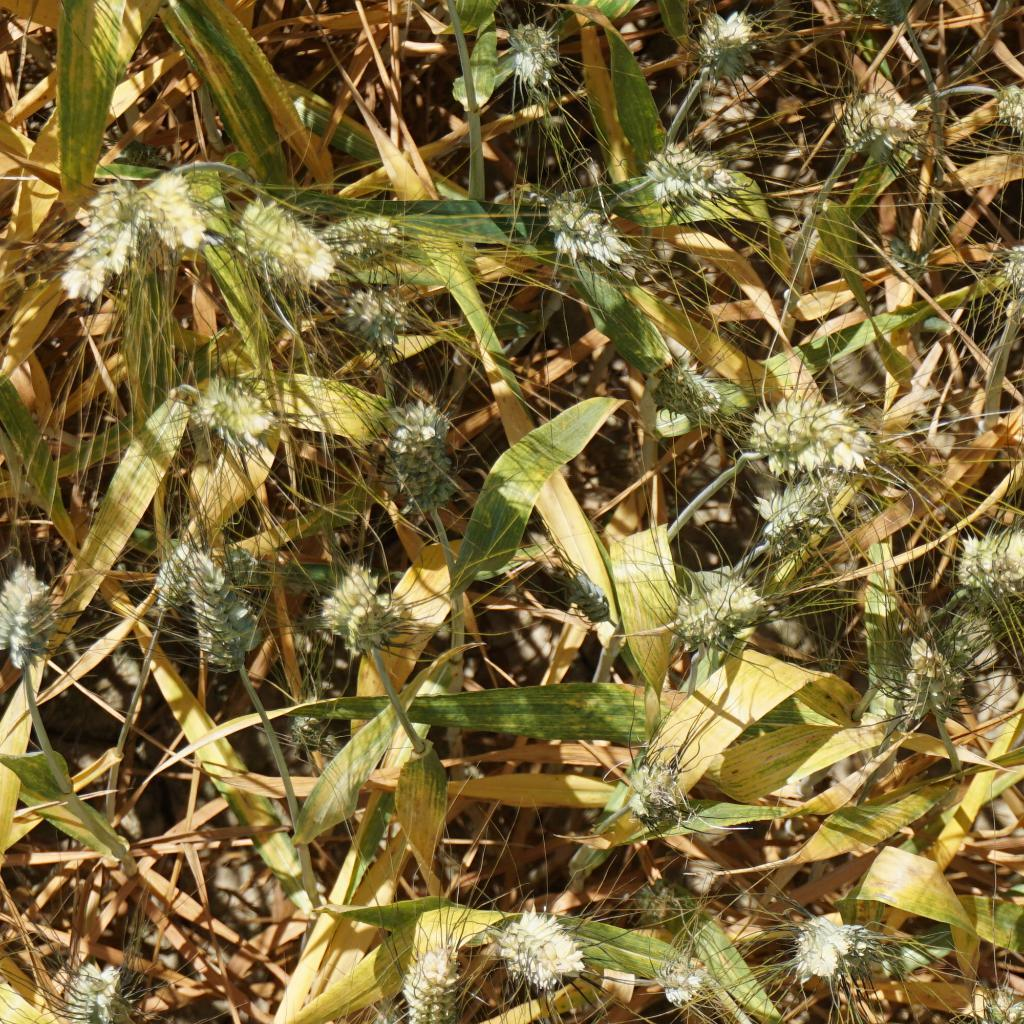0-0: (662, 561, 787, 659), (64, 183, 146, 298), (379, 399, 457, 513), (746, 398, 864, 464), (193, 559, 254, 684), (315, 564, 398, 655), (620, 748, 702, 839), (887, 628, 971, 715), (548, 199, 638, 278), (243, 201, 329, 281), (195, 375, 287, 449), (292, 670, 358, 766), (778, 902, 853, 983), (756, 475, 841, 544), (0, 563, 60, 659), (504, 908, 576, 987), (645, 140, 735, 203), (132, 170, 204, 244), (958, 528, 1024, 607), (652, 351, 723, 418), (689, 8, 758, 76), (321, 206, 405, 260), (398, 950, 459, 1024), (830, 86, 905, 146), (62, 965, 135, 1024), (349, 280, 411, 345), (500, 19, 560, 86), (652, 955, 719, 1012), (551, 556, 607, 624), (146, 534, 196, 610), (878, 222, 935, 288), (989, 220, 1024, 291), (971, 982, 1024, 1024), (998, 68, 1024, 132)
